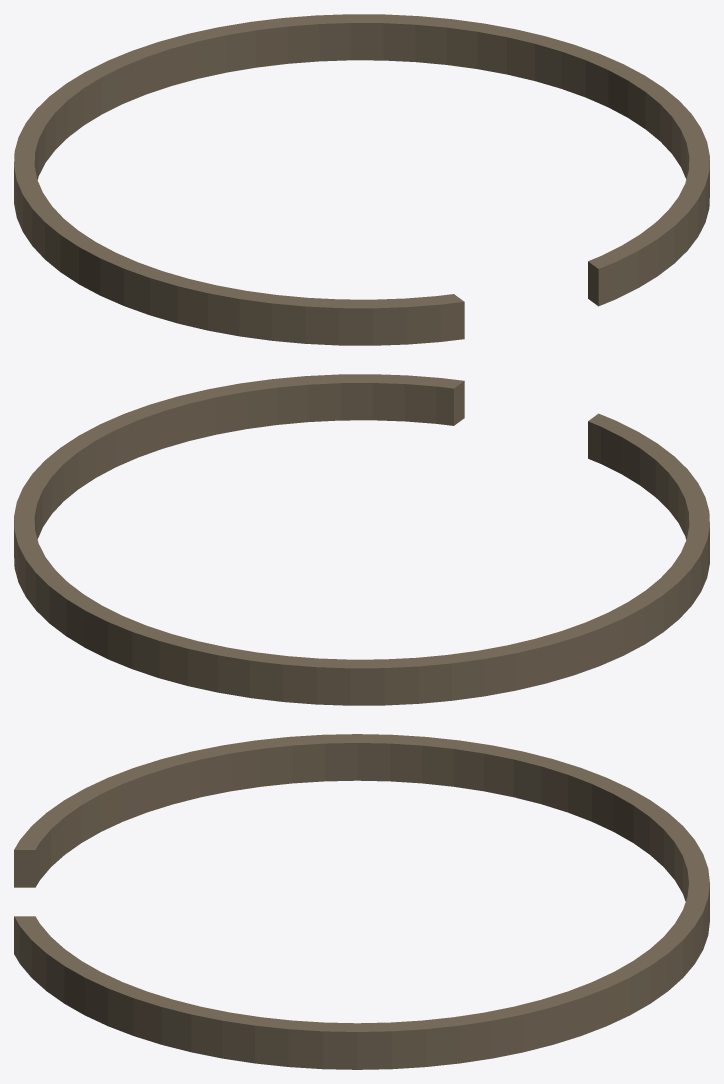
The model's file is zoo-ring.glb.
3 renders of one model, top to bottom at view 1: azimuth 30°, elevation 25°; view 2: azimuth 150°, elevation 25°; view 3: azimuth 270°, elevation 25°, orthographic.
Visible parts, largest first — view 1: zoo_ring; view 2: zoo_ring; view 3: zoo_ring.
Boxes of the visible parts, left/top/right/bottom form: zoo_ring: left=14, top=14, right=709, bottom=345; zoo_ring: left=14, top=374, right=709, bottom=705; zoo_ring: left=14, top=734, right=709, bottom=1069.
Size of the model in its own units: 27 by 1.6 by 26.65.
